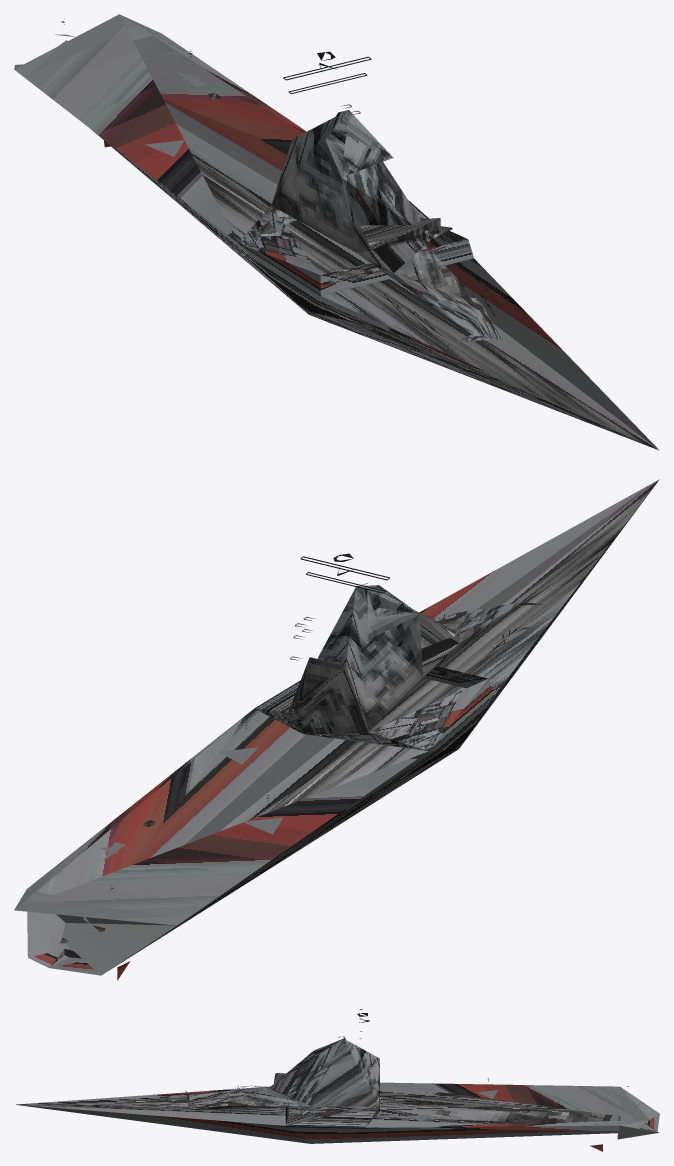
The picture shows the model from 3 angles, top to bottom: view 1: azimuth 30°, elevation 25°; view 2: azimuth 150°, elevation 25°; view 3: azimuth 270°, elevation 25°; orthographic projection. The views are drawn at different scales.
Visible parts, largest first — view 1: Object_2; view 2: Object_2; view 3: Object_2.
Boxes of the visible parts, <box> form: Object_2: <box>14,14,659,450</box>; Object_2: <box>14,479,659,980</box>; Object_2: <box>16,1009,659,1151</box>.
Bounding box in the file's own units: 0.4569 × 0.6458 × 2.75.
Materials: 1 (1 with a texture image).
